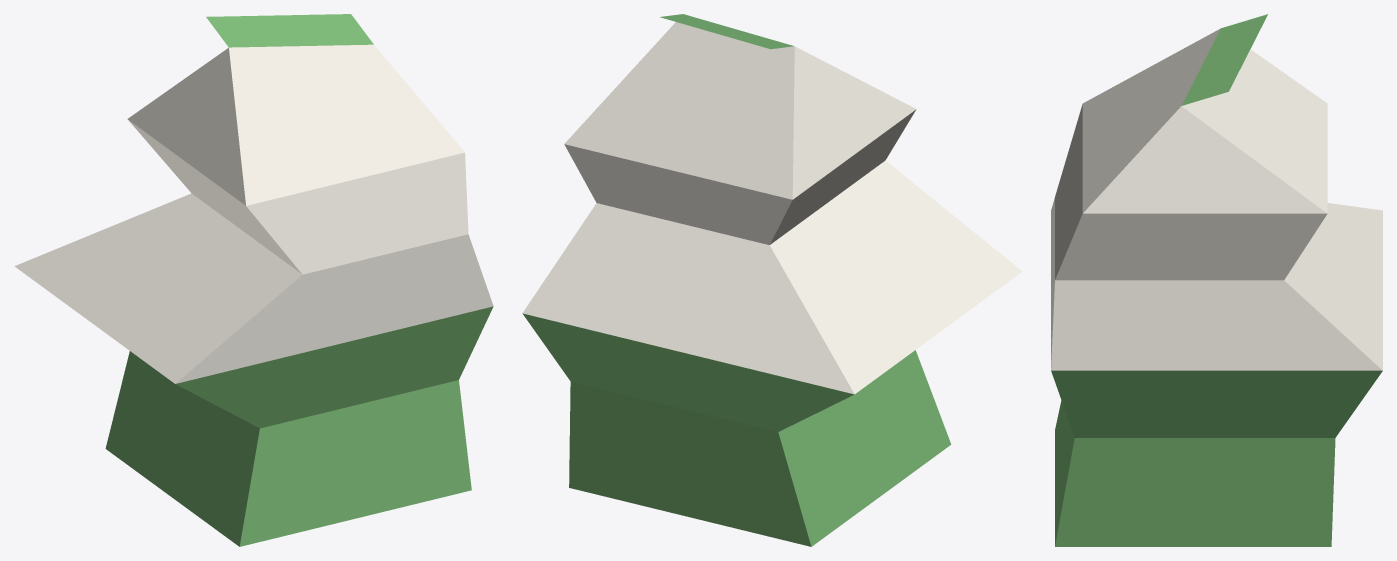
The model's file is milk_carton_folded.glb.
The picture shows the model from 3 angles, left to right: view 1: azimuth 30°, elevation 25°; view 2: azimuth 150°, elevation 25°; view 3: azimuth 270°, elevation 25°; orthographic projection. The views are drawn at different scales.
Parts seen in each view (by area): view 1: MilkCarton_Folded; view 2: MilkCarton_Folded; view 3: MilkCarton_Folded.
Boxes of the visible parts, left/top/right/bottom form: MilkCarton_Folded: left=14, top=14, right=493, bottom=546; MilkCarton_Folded: left=522, top=14, right=1022, bottom=546; MilkCarton_Folded: left=1051, top=14, right=1382, bottom=546.
Size of the model in its own units: 0.096 by 0.126 by 0.084.
